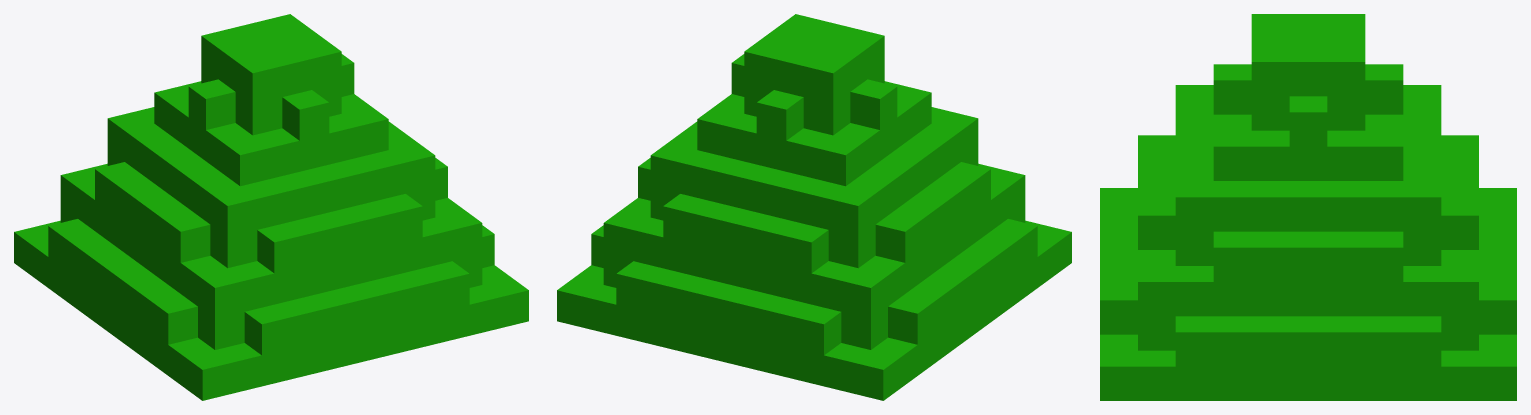
Rendered from Bush_01.obj.
3 views of the same model, side by side, from view 1: azimuth 30°, elevation 25°; view 2: azimuth 150°, elevation 25°; view 3: azimuth 270°, elevation 25° (orthographic). The views are drawn at different scales.
Bounding box in the file's own units: 1.1 × 0.8 × 1.1.
Materials: 1 (1 with a texture image).
